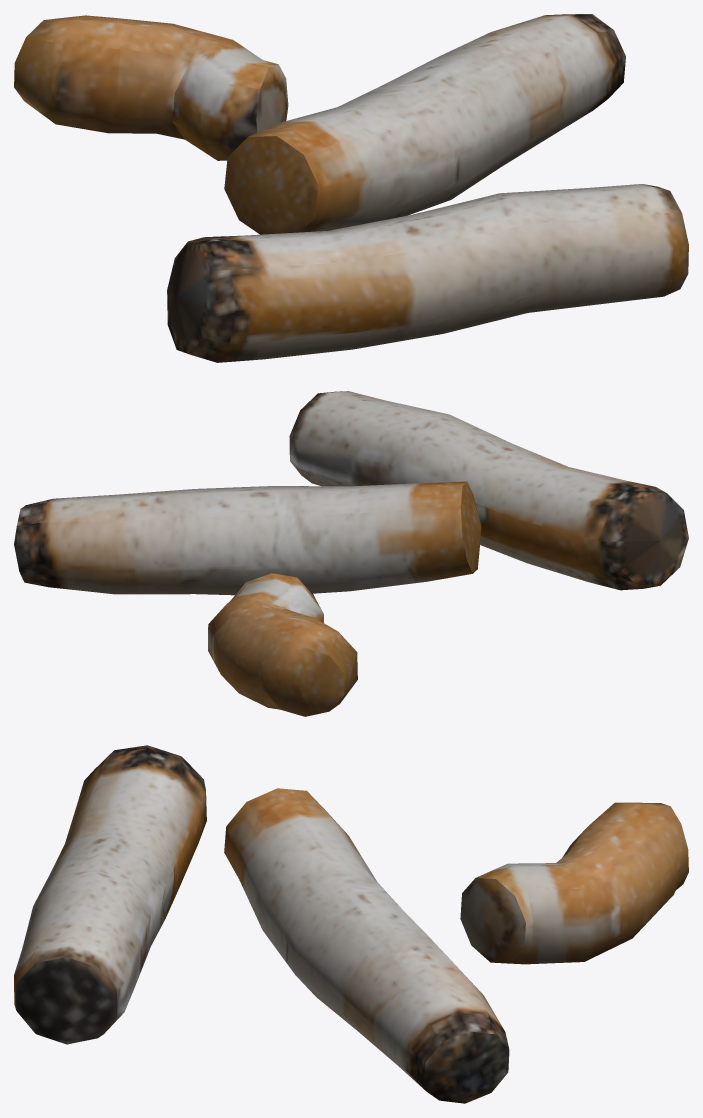
The model's file is CigaretteButts.fbx.
The picture shows the model from 3 angles, top to bottom: view 1: azimuth 30°, elevation 25°; view 2: azimuth 150°, elevation 25°; view 3: azimuth 270°, elevation 25°; orthographic projection. The views are drawn at different scales.
Parts seen in each view (by area): view 1: CigaretteButts_Low; view 2: CigaretteButts_Low; view 3: CigaretteButts_Low.
Part boxes in pixels (x1,y1,x2,y2): CigaretteButts_Low: (14, 14, 688, 362); CigaretteButts_Low: (14, 391, 688, 716); CigaretteButts_Low: (14, 745, 688, 1103).
Bounding box in the file's own units: 0.1803 × 0.0391 × 0.1869.
